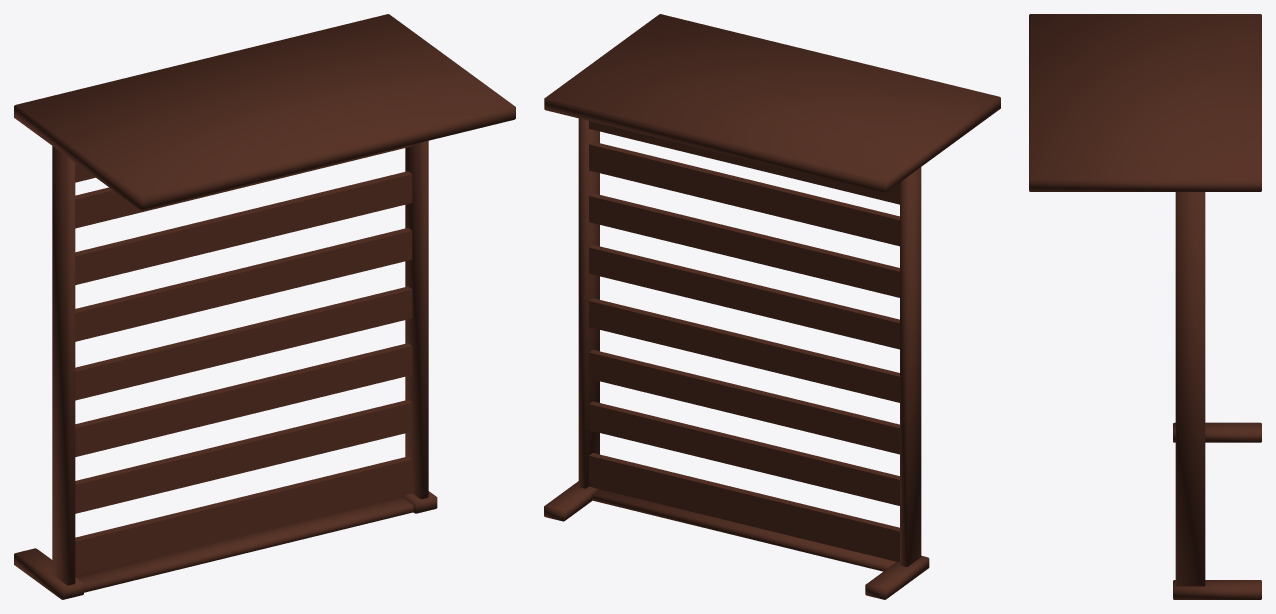
The model's file is MeshBed_30_0.obj.
3 renders of one model, left to right at view 1: azimuth 30°, elevation 25°; view 2: azimuth 150°, elevation 25°; view 3: azimuth 270°, elevation 25°, orthographic. The views are drawn at different scales.
Visible parts, largest first — view 1: Bed_30; view 2: Bed_30; view 3: Bed_30.
Part boxes in pixels (bbox=[...]): Bed_30: bbox=[14, 14, 515, 599]; Bed_30: bbox=[544, 14, 1000, 599]; Bed_30: bbox=[1029, 14, 1261, 599].
Bounding box in the file's own units: 2.06 × 2.41 × 1.21.
